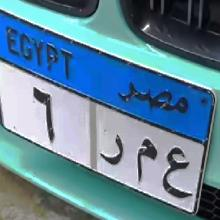6: (29, 80, 56, 145)
ain: (161, 142, 194, 203)
meem: (133, 134, 159, 190)
raa: (95, 127, 126, 176)
